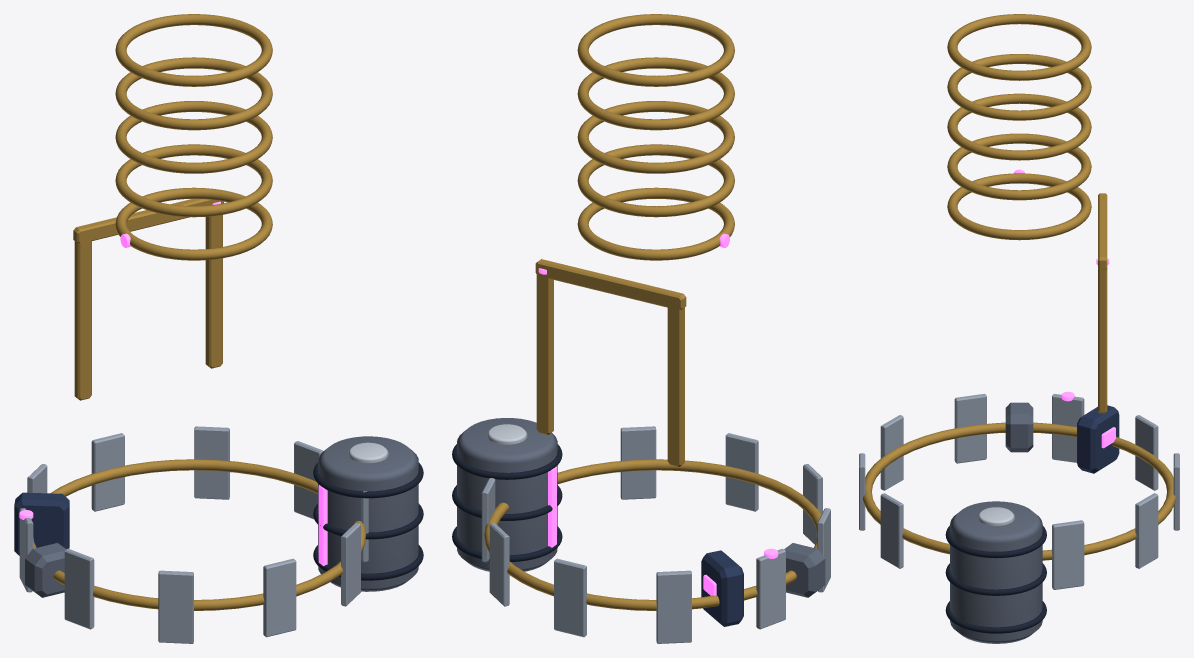
File: tower_arc_rate_s7.glb
3 renders of one model, left to right at view 1: azimuth 30°, elevation 25°; view 2: azimuth 150°, elevation 25°; view 3: azimuth 270°, elevation 25°, orthographic. The views are drawn at different scales.
Parts seen in each view (by area): view 1: arc_supercap, arc_coolant_loop, arc_winding_b4, arc_winding_b3, arc_winding_b1, arc_winding_b2, arc_winding_b0, arc_bus_bar_r, arc_base_fin8, arc_bus_bar_l, arc_meter_box, arc_base_fin7 (+13 smaller); view 2: arc_supercap, arc_coolant_loop, arc_winding_b4, arc_winding_b3, arc_winding_b1, arc_winding_b2, arc_winding_b0, arc_bus_bar_r, arc_bus_bar_l, arc_bus_bridge, arc_base_fin1, arc_base_fin2 (+14 smaller); view 3: arc_supercap, arc_coolant_loop, arc_winding_b4, arc_winding_b1, arc_winding_b2, arc_winding_b0, arc_winding_b3, arc_base_fin4, arc_meter_box, arc_base_fin9, arc_base_fin3, arc_base_fin6 (+12 smaller).
Boxes of the visible parts, <box> form: arc_supercap: <box>318,436,418,591</box>; arc_coolant_loop: <box>33,459,366,610</box>; arc_winding_b4: <box>115,14,272,86</box>; arc_winding_b3: <box>115,57,272,130</box>; arc_winding_b1: <box>115,144,272,217</box>; arc_winding_b2: <box>115,101,272,173</box>; arc_winding_b0: <box>115,187,272,260</box>; arc_bus_bar_r: <box>74,237,91,400</box>; arc_base_fin8: <box>158,570,193,643</box>; arc_bus_bar_l: <box>205,215,222,368</box>; arc_meter_box: <box>14,492,69,555</box>; arc_base_fin7: <box>263,558,296,637</box>; arc_supercap: <box>457,418,557,571</box>; arc_coolant_loop: <box>484,459,821,610</box>; arc_winding_b4: <box>577,14,734,86</box>; arc_winding_b3: <box>577,57,734,130</box>; arc_winding_b1: <box>577,144,734,217</box>; arc_winding_b2: <box>577,101,734,173</box>; arc_winding_b0: <box>577,187,734,260</box>; arc_bus_bar_r: <box>667,304,684,466</box>; arc_bus_bar_l: <box>536,272,553,434</box>; arc_bus_bridge: <box>535,259,686,309</box>; arc_base_fin1: <box>656,570,691,643</box>; arc_base_fin2: <box>554,558,586,637</box>; arc_supercap: <box>950,501,1042,643</box>; arc_coolant_loop: <box>863,422,1175,560</box>; arc_winding_b4: <box>947,14,1091,80</box>; arc_winding_b1: <box>947,133,1091,200</box>; arc_winding_b2: <box>947,93,1091,160</box>; arc_winding_b0: <box>947,173,1091,240</box>; arc_winding_b3: <box>947,54,1091,120</box>; arc_base_fin4: <box>1052,520,1084,589</box>; arc_meter_box: <box>1077,405,1119,473</box>; arc_base_fin9: <box>954,393,986,463</box>; arc_base_fin3: <box>1135,493,1158,568</box>; arc_base_fin6: <box>880,493,903,568</box>.
Size of the model in its own units: 1.71 by 2.46 by 1.39.
